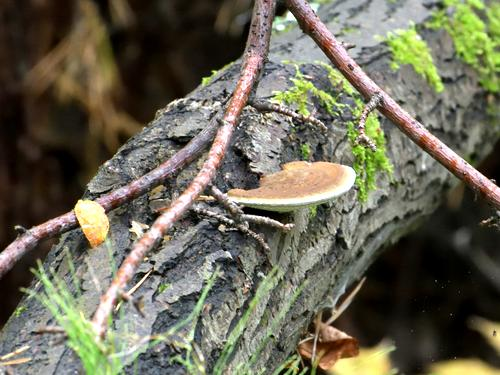Ganoderma - Fruit Body: (223, 158, 357, 216)
